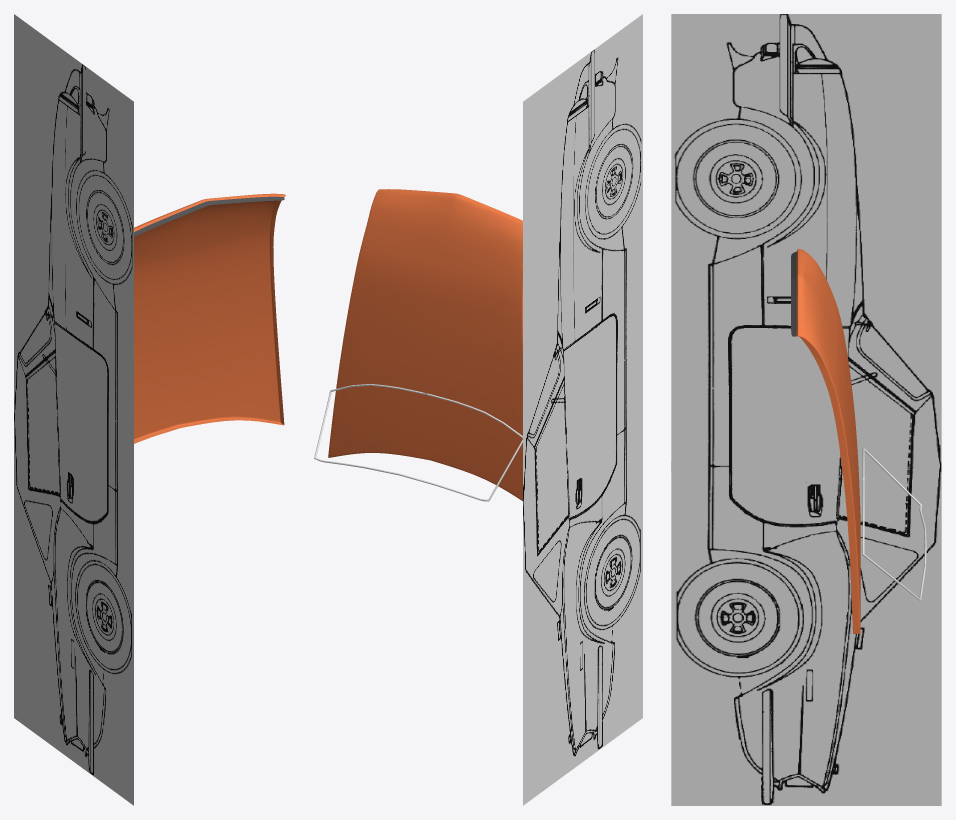
Rendered from Rover.glb.
3 views of the same model, side by side, from view 1: azimuth 30°, elevation 25°; view 2: azimuth 150°, elevation 25°; view 3: azimuth 270°, elevation 25° (orthographic). The views are drawn at different scales.
Parts seen in each view (by area): view 1: Face_4, Sweep_2_2; view 2: Face_4, Sweep_2_2; view 3: Face_4, Sweep_2_2.
Boxes of the visible parts, x1,y1,x2,y2 form: Face_4: (14, 14, 133, 805); Sweep_2_2: (134, 193, 285, 443); Face_4: (523, 14, 642, 805); Sweep_2_2: (314, 189, 522, 501); Face_4: (671, 14, 941, 805); Sweep_2_2: (791, 249, 926, 633).
Size of the model in its own units: 287 by 838 by 259.
Materials: 4 (4 with a texture image).
